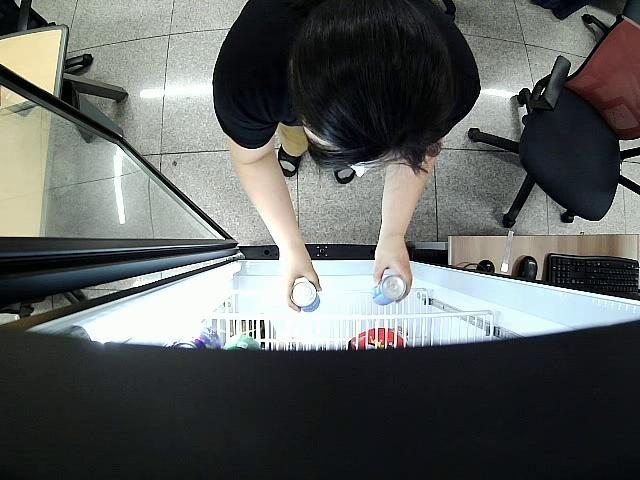15_letsbe: (368, 274, 406, 308), (290, 280, 321, 314)
